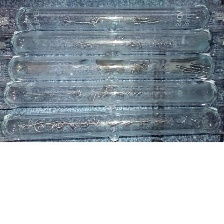light_bulb: (0, 105, 223, 143), (9, 25, 218, 59), (2, 51, 217, 83), (1, 80, 223, 108), (10, 2, 213, 32)
